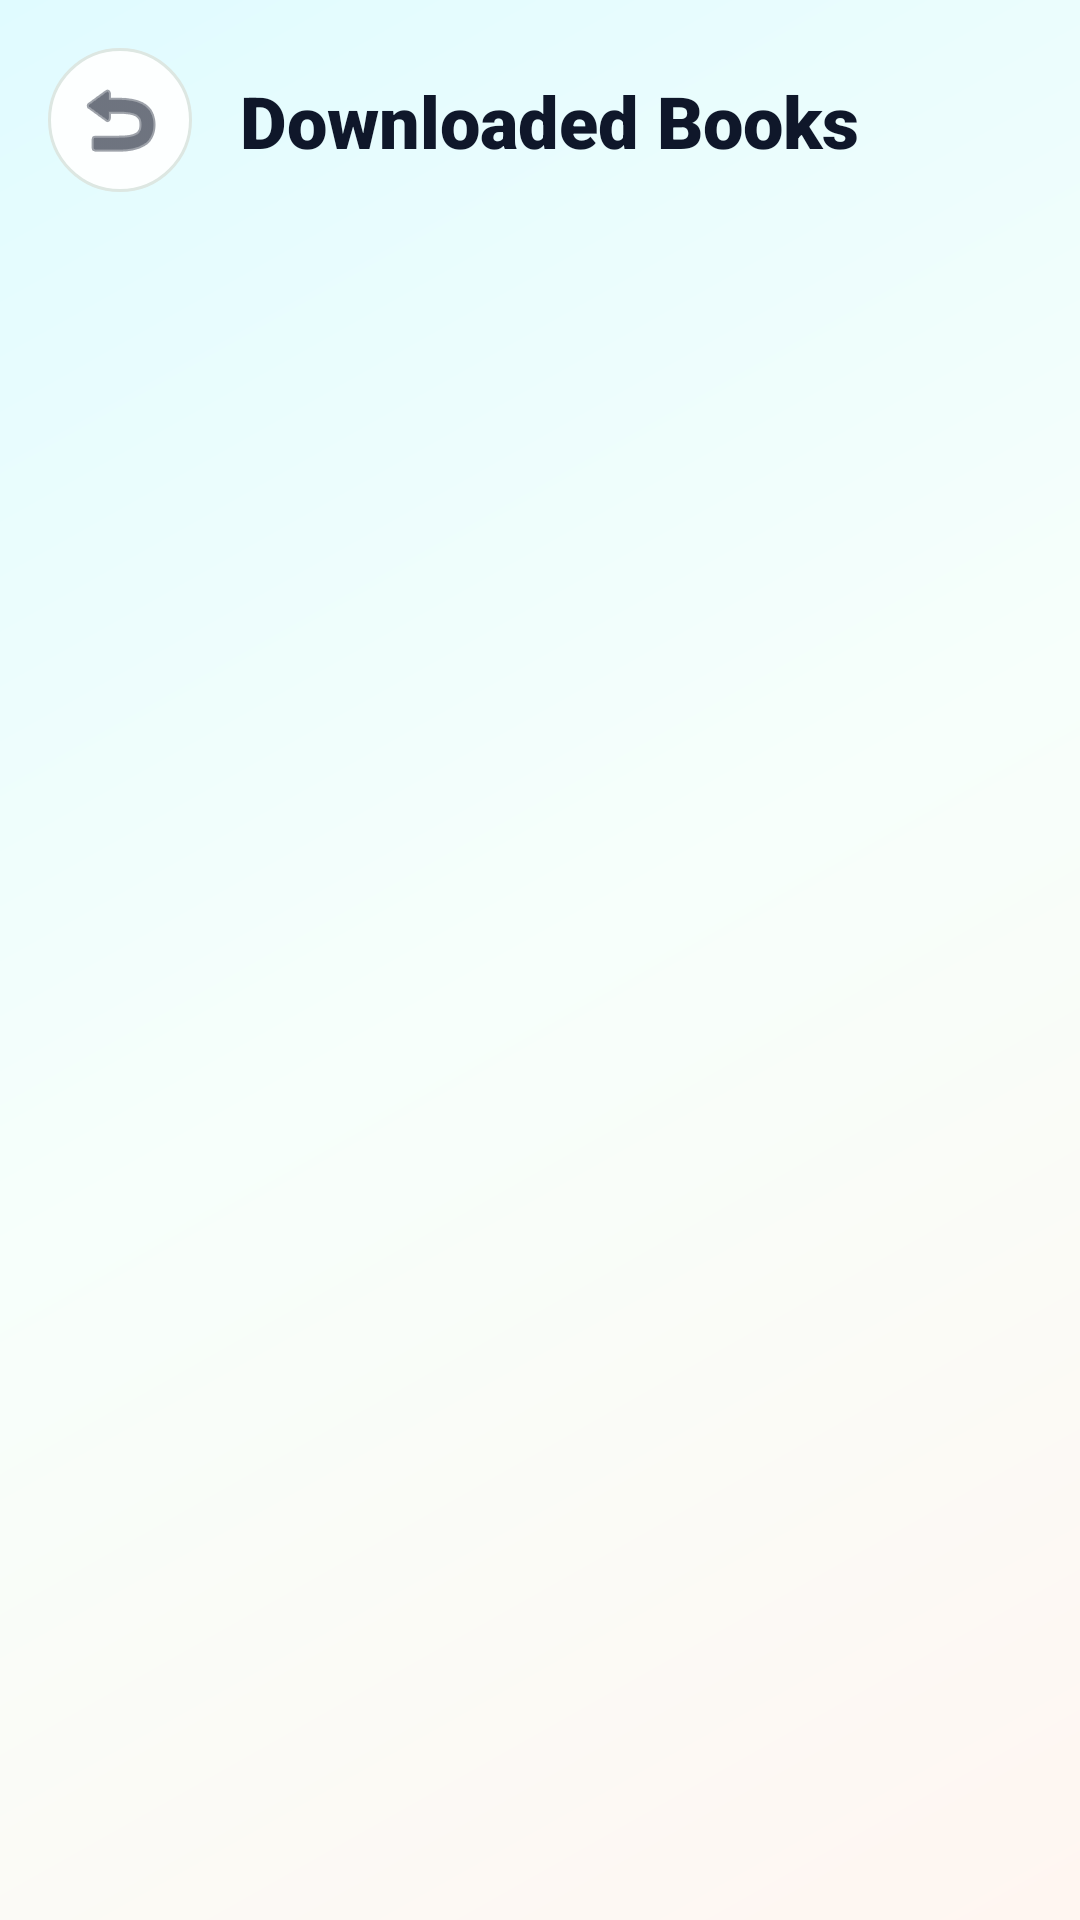

Where icons sit on this 1080px x 1920px app screen, as (x1, y1, x2, y2):
revert: (48, 48, 192, 192)
